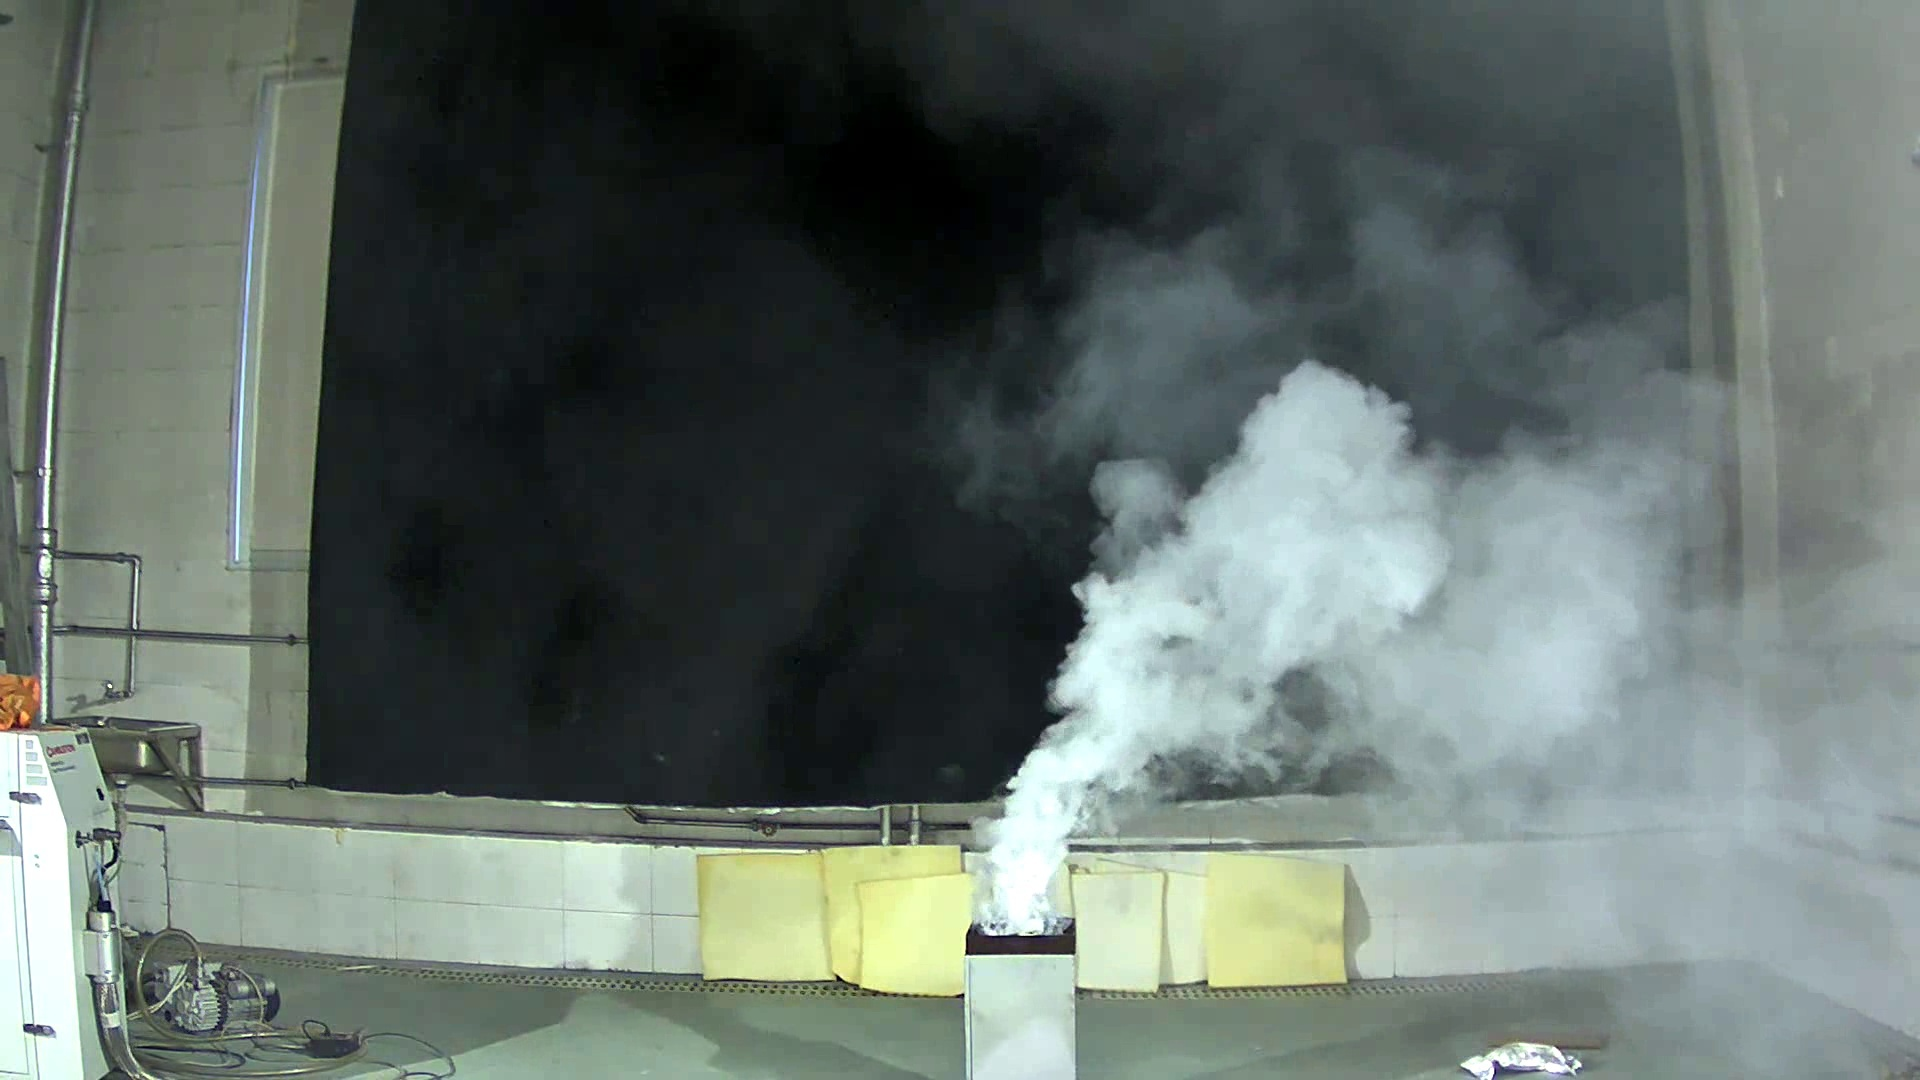smoke: (916, 224, 1671, 932)
